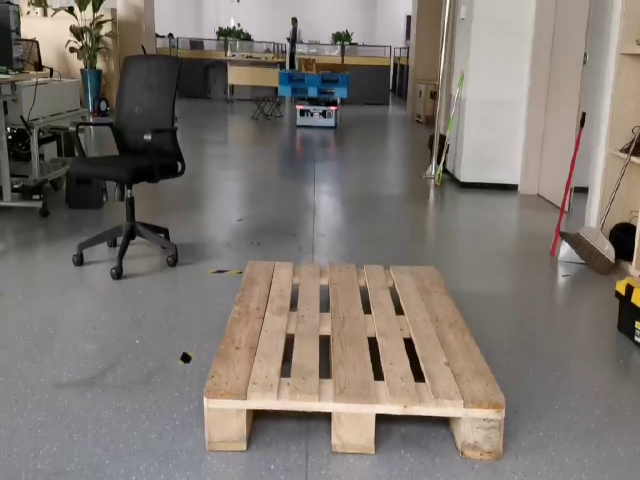block: (459, 406, 506, 464), (329, 400, 376, 456), (204, 396, 245, 450)
front: (206, 396, 508, 460)
hole pallet: (375, 414, 464, 456), (246, 410, 332, 453)
